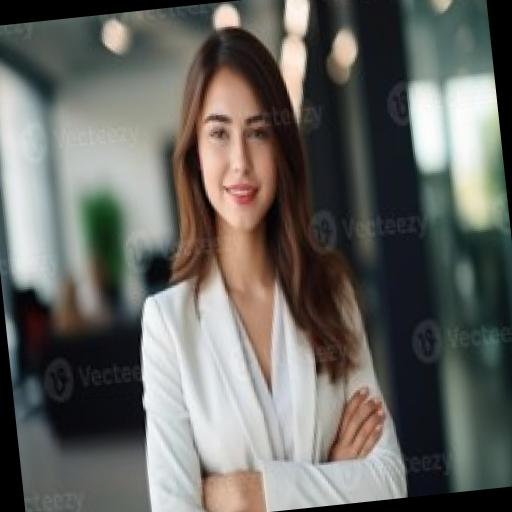human: (89, 11, 412, 512)
